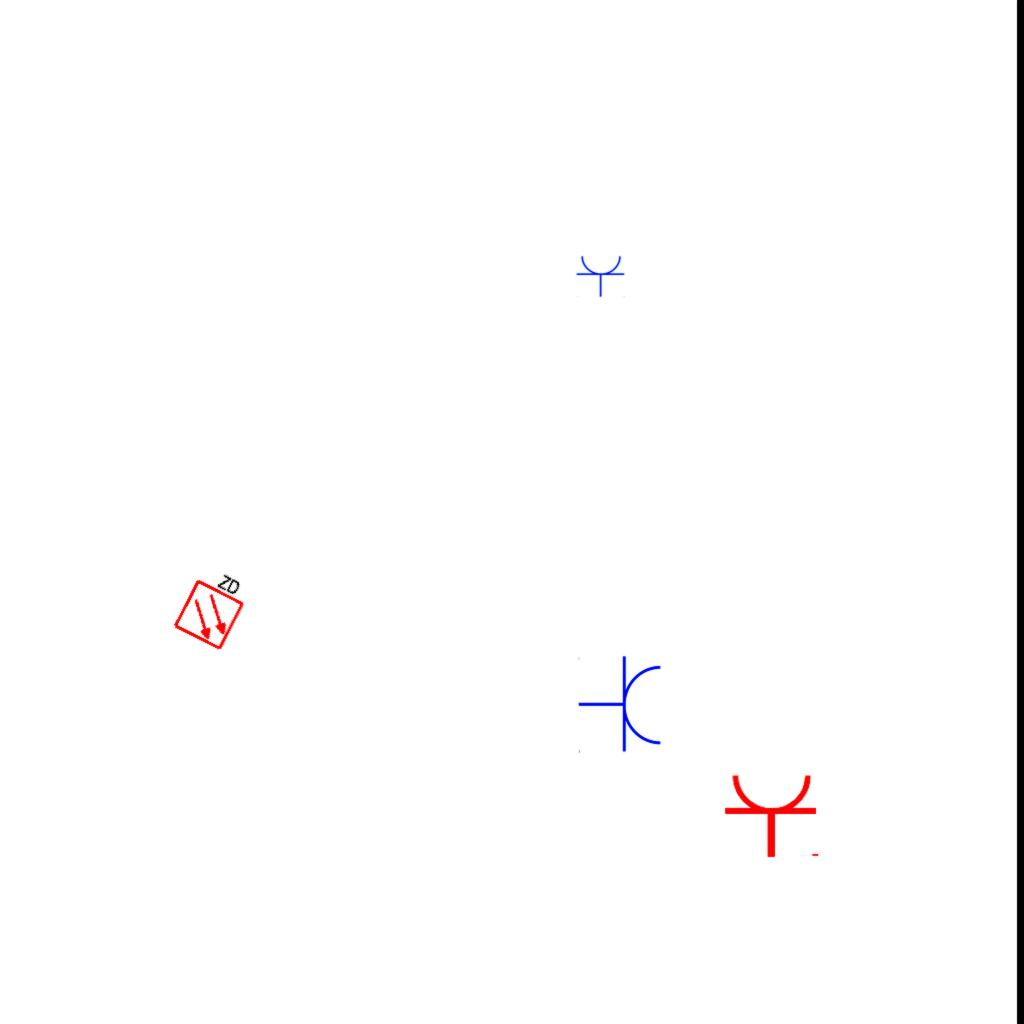Schukosteckdose_einfach: (723, 772, 823, 859), (578, 655, 665, 755), (576, 254, 626, 297)
ZD_Melder_in_Zwischendecke_mit_Revisionsoeffnung_mind_40_x_40_cm: (170, 560, 255, 652)
